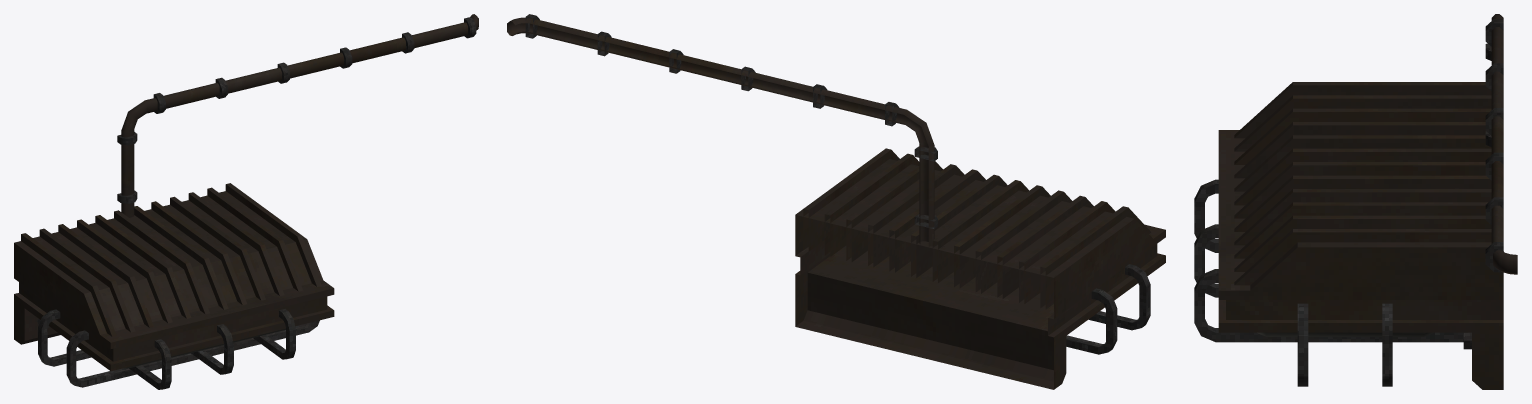
The model's file is lamp_5_1_off.glb.
3 renders of one model, left to right at view 1: azimuth 30°, elevation 25°; view 2: azimuth 150°, elevation 25°; view 3: azimuth 270°, elevation 25°, orthographic. The views are drawn at different scales.
Parts seen in each view (by area): view 1: lamp_5_1_off, lamp_5_1_off_protector; view 2: lamp_5_1_off, lamp_5_1_off_protector; view 3: lamp_5_1_off, lamp_5_1_off_protector.
Part boxes in pixels (bbox=[...]): lamp_5_1_off: bbox=[14, 14, 478, 370]; lamp_5_1_off_protector: bbox=[38, 309, 319, 389]; lamp_5_1_off: bbox=[507, 14, 1165, 389]; lamp_5_1_off_protector: bbox=[1066, 264, 1150, 354]; lamp_5_1_off: bbox=[1218, 14, 1517, 389]; lamp_5_1_off_protector: bbox=[1194, 179, 1463, 386].
Size of the model in its own units: 0.7752 by 0.325 by 0.3063.
Materials: 3 (3 with a texture image).
